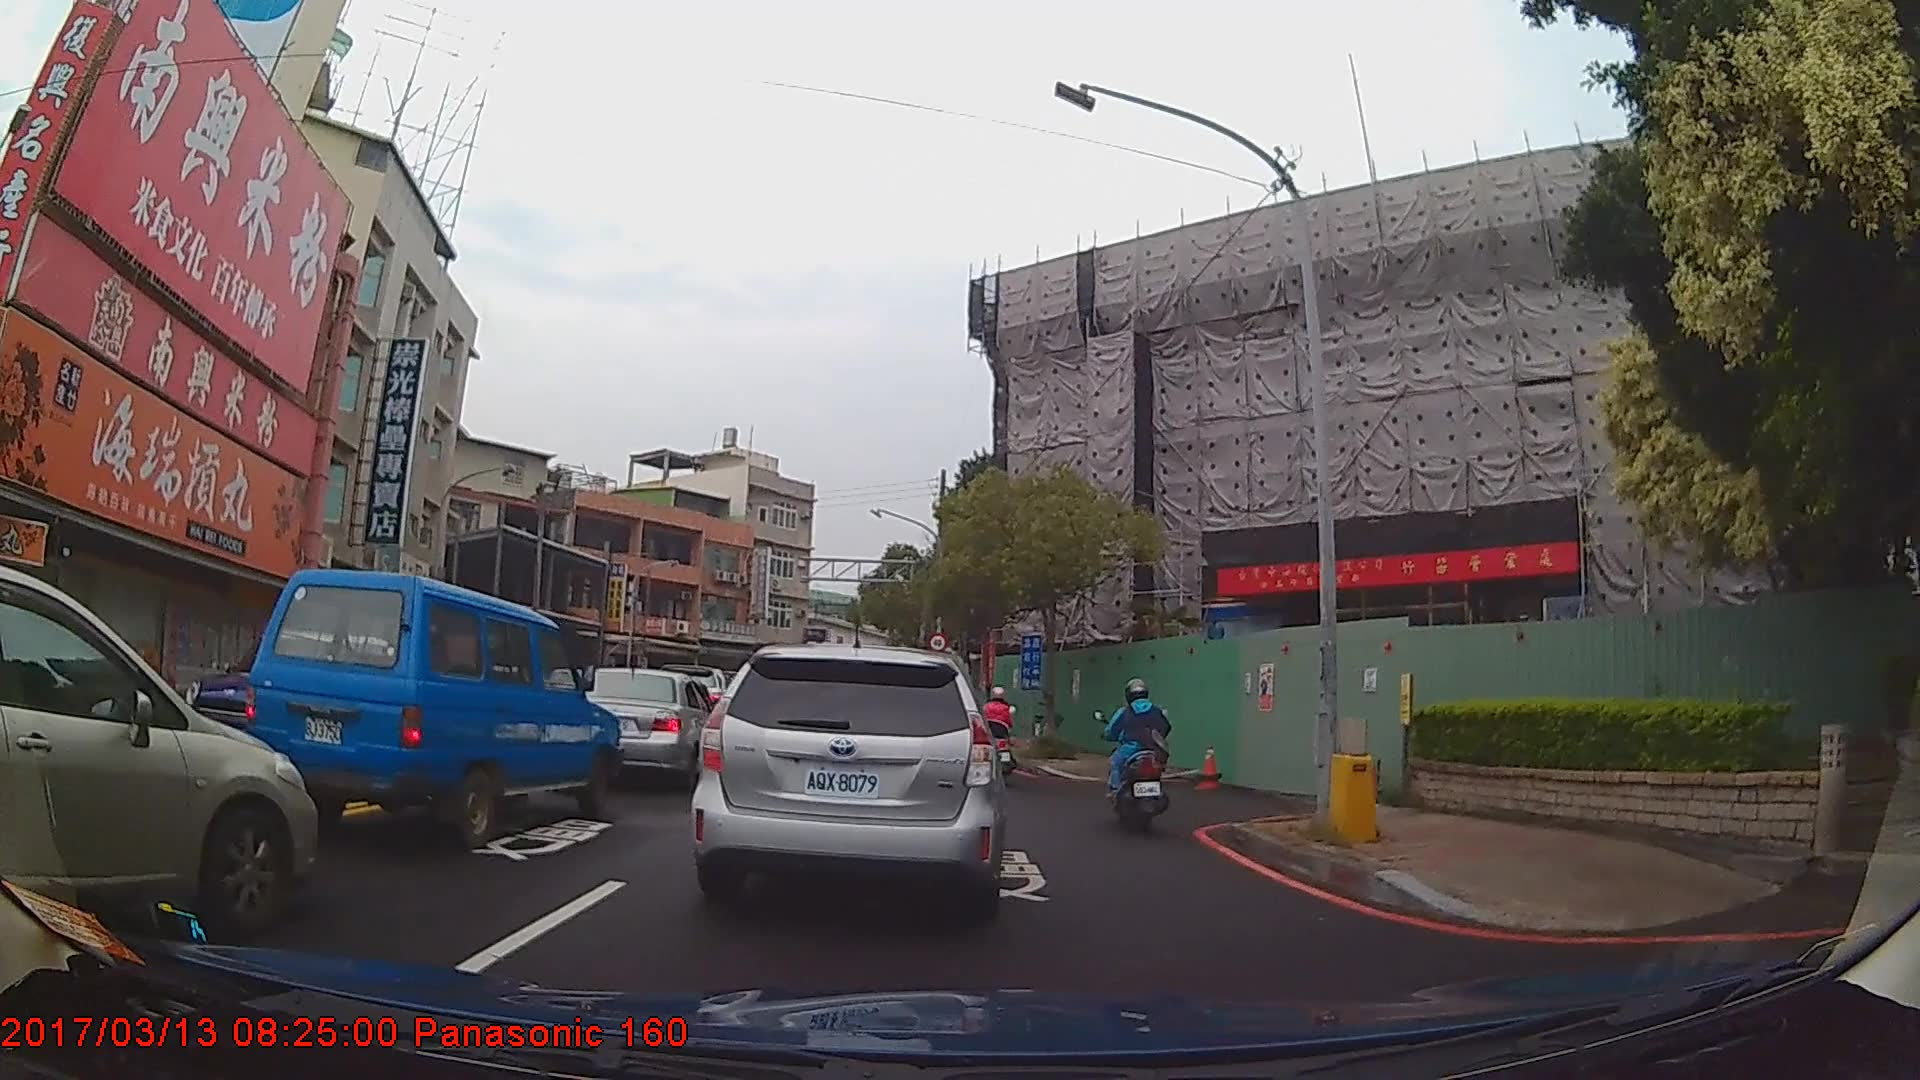rider: (1106, 680, 1171, 833), (981, 685, 1018, 782)
vehicle: (0, 562, 318, 940), (240, 565, 620, 847), (690, 641, 1008, 921), (176, 623, 416, 799), (569, 665, 718, 794)
